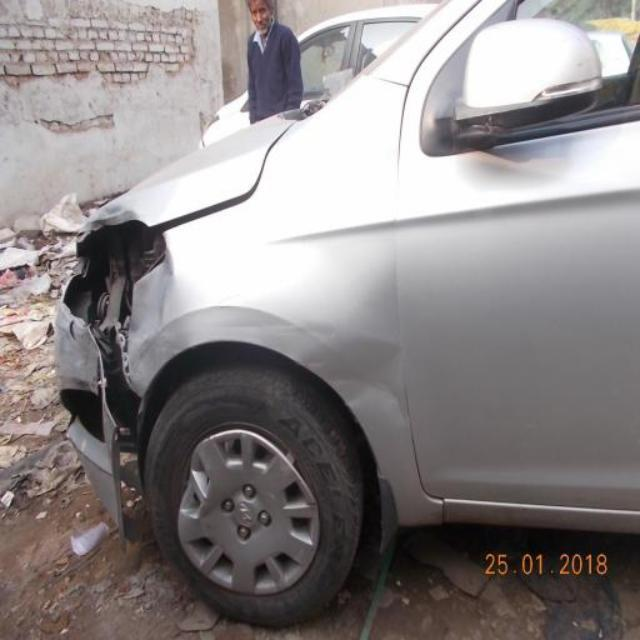dent: (271, 312, 408, 429)
dislocated part: (58, 212, 182, 436)
